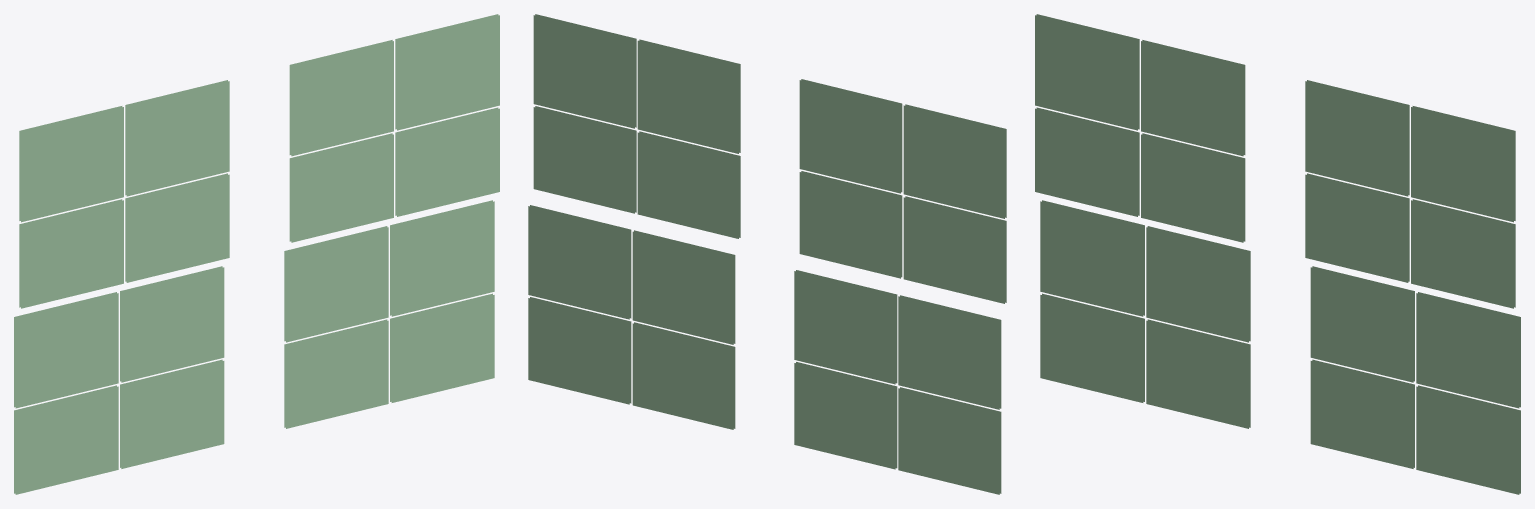
File: SM_House_WindowGlass_C2.fbx
3 renders of one model, left to right at view 1: azimuth 30°, elevation 25°; view 2: azimuth 150°, elevation 25°; view 3: azimuth 330°, elevation 25°, orthographic.
Parts seen in each view (by area): view 1: SM_House_WindowGlass_C2; view 2: SM_House_WindowGlass_C2; view 3: SM_House_WindowGlass_C2.
Boxes of the visible parts, x1,y1,x2,y2 form: SM_House_WindowGlass_C2: (14,14,499,494); SM_House_WindowGlass_C2: (528,14,1006,494); SM_House_WindowGlass_C2: (1035,14,1520,494).
Size of the model in its own units: 175 by 4.4 by 128.
